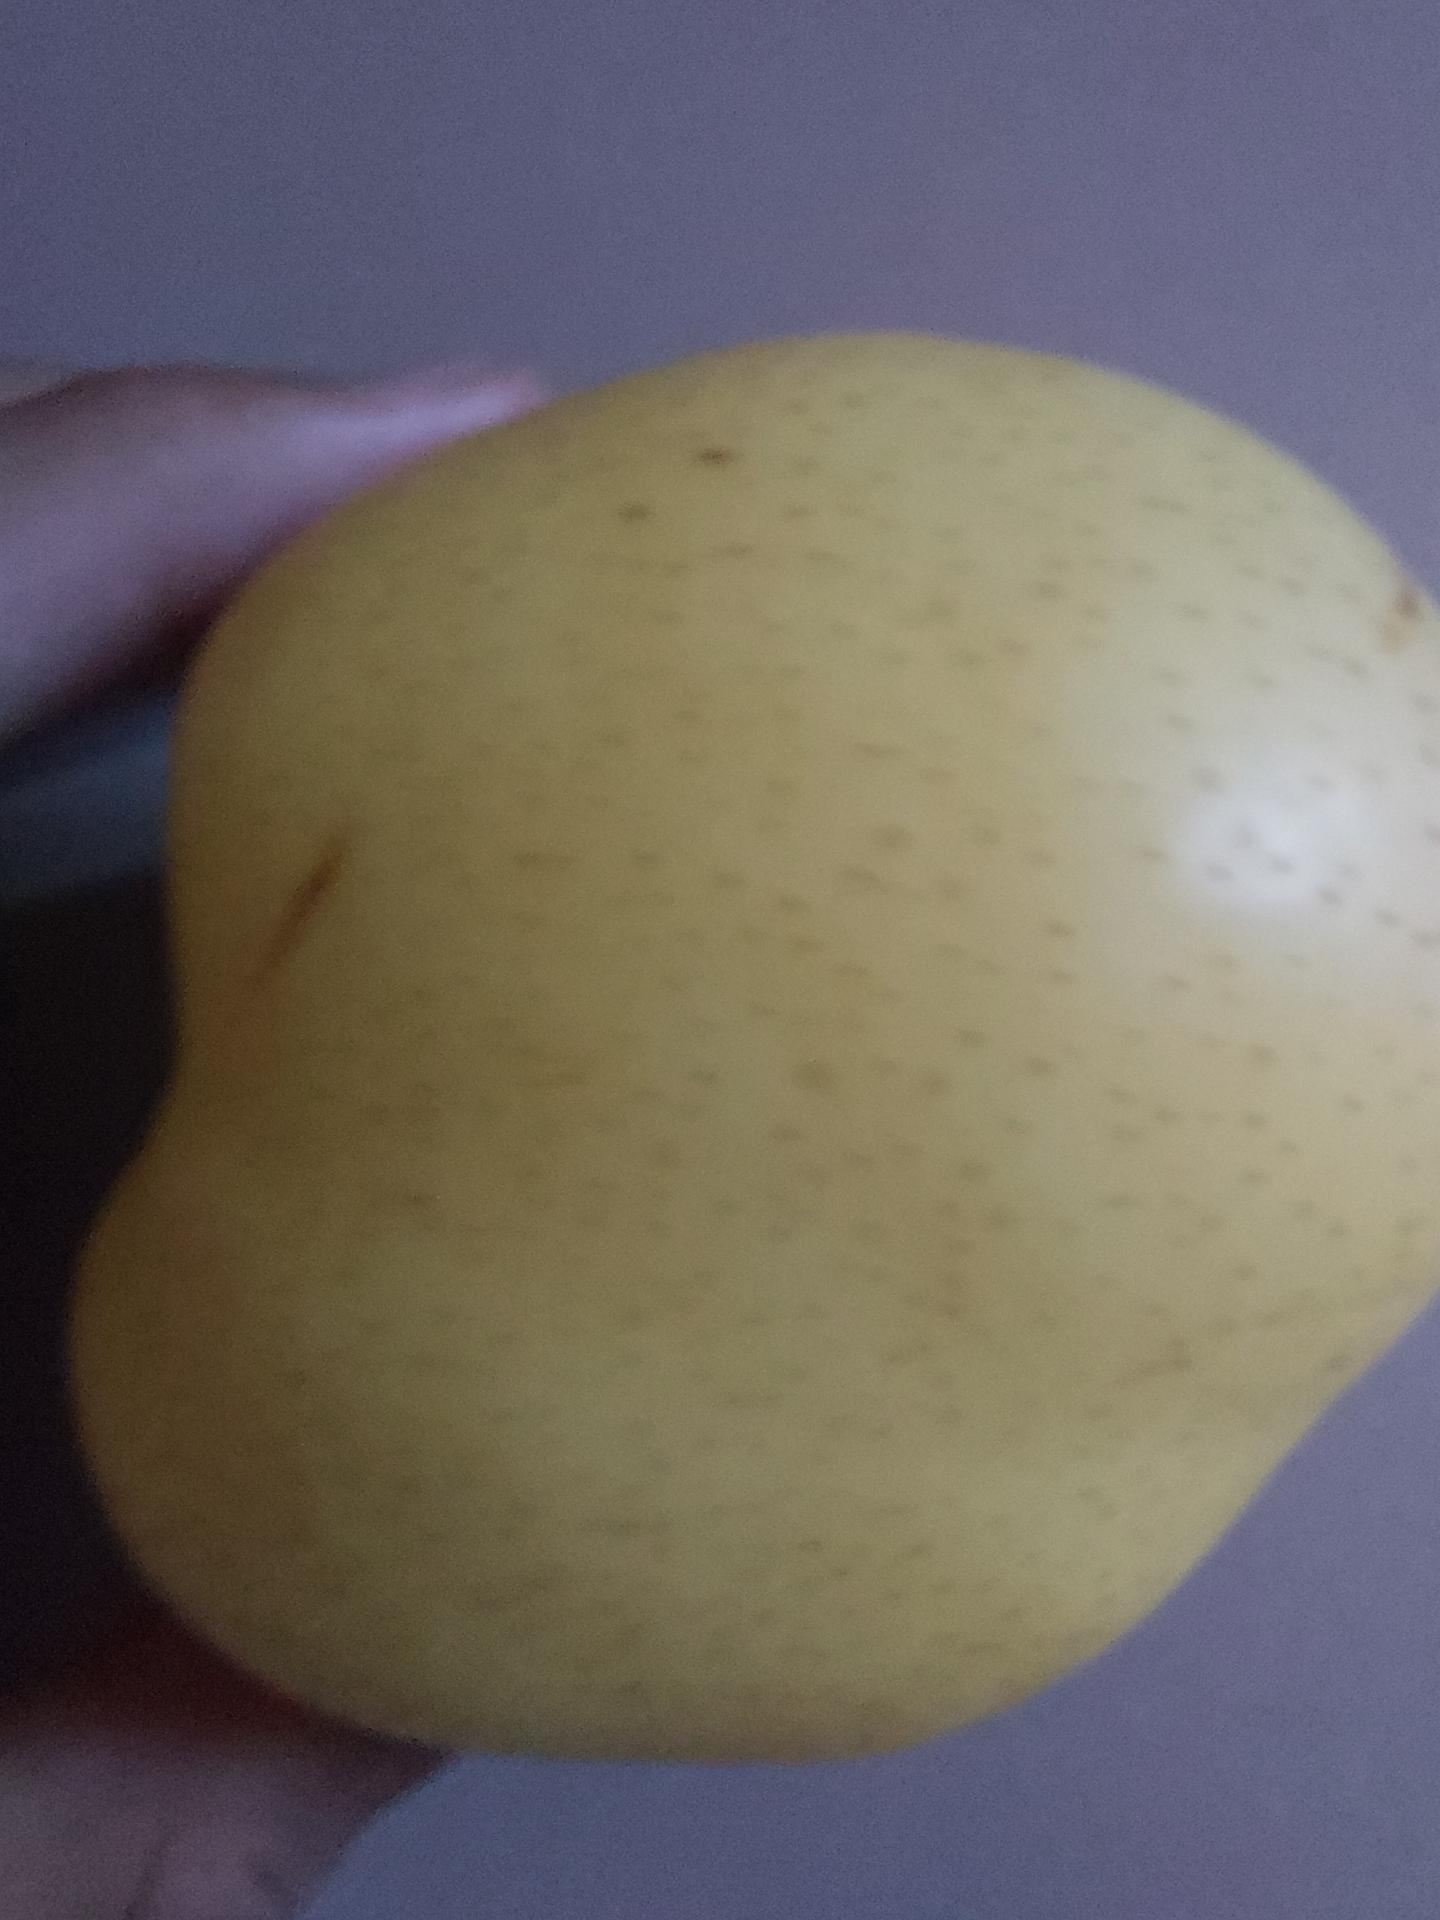Good Pear: (70, 328, 1440, 1772)
